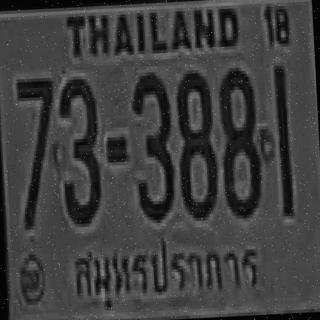N01: (273, 64, 293, 215)
N03: (130, 68, 176, 221), (56, 76, 102, 225)
N07: (14, 75, 58, 227)
N08: (217, 64, 261, 216), (174, 66, 218, 218)
P57: (67, 224, 266, 317)
